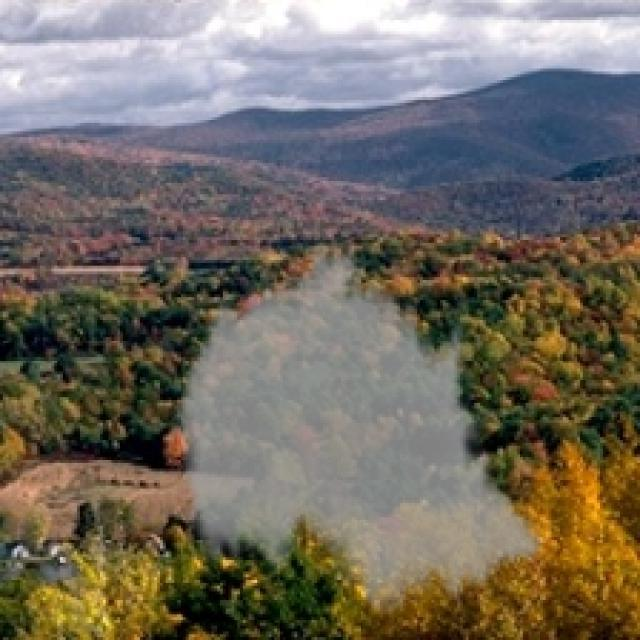Smoke: (171, 237, 546, 626)
